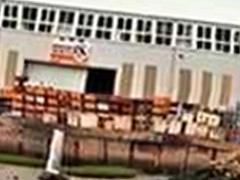rust: (2, 89, 177, 121), (132, 135, 201, 159), (52, 43, 93, 66), (74, 136, 85, 170)
